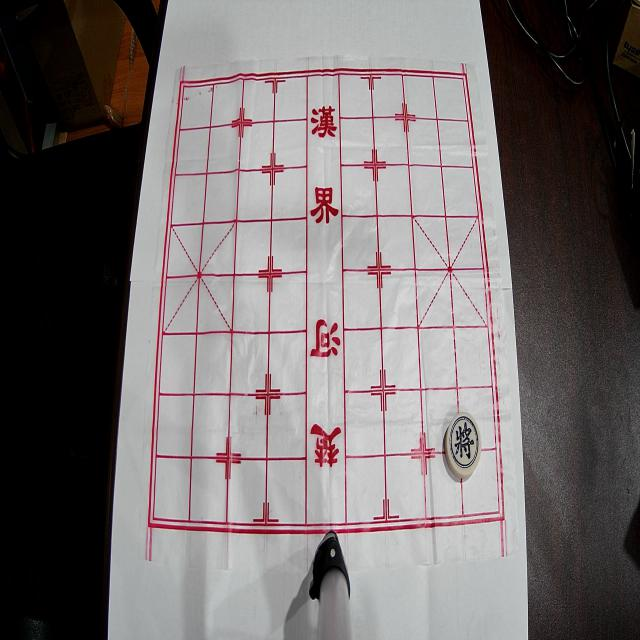black-general: (445, 412, 481, 479)
